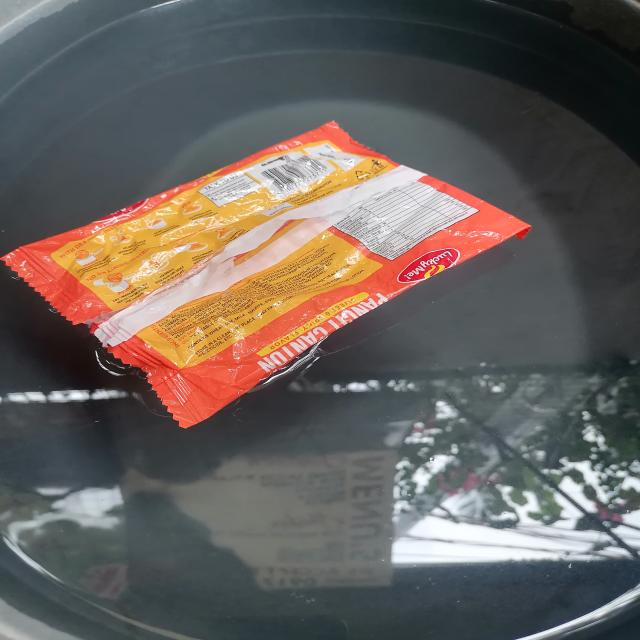Plastic Wrapper: (1, 121, 530, 427)
